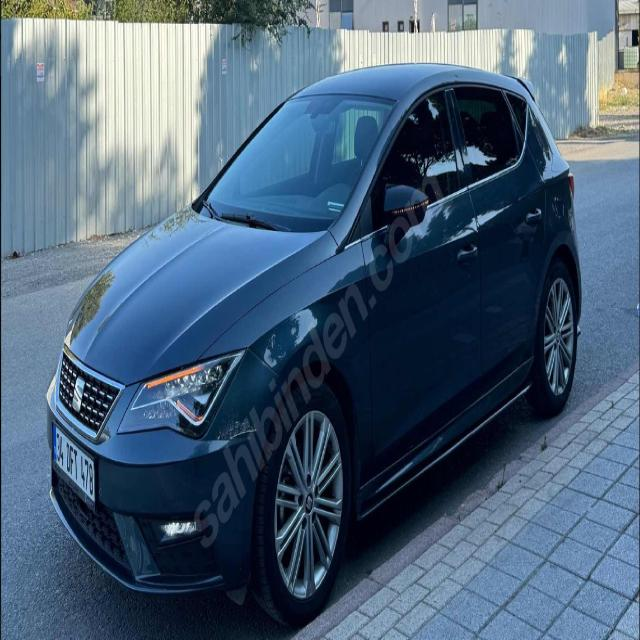seat: (72, 374, 86, 415)
